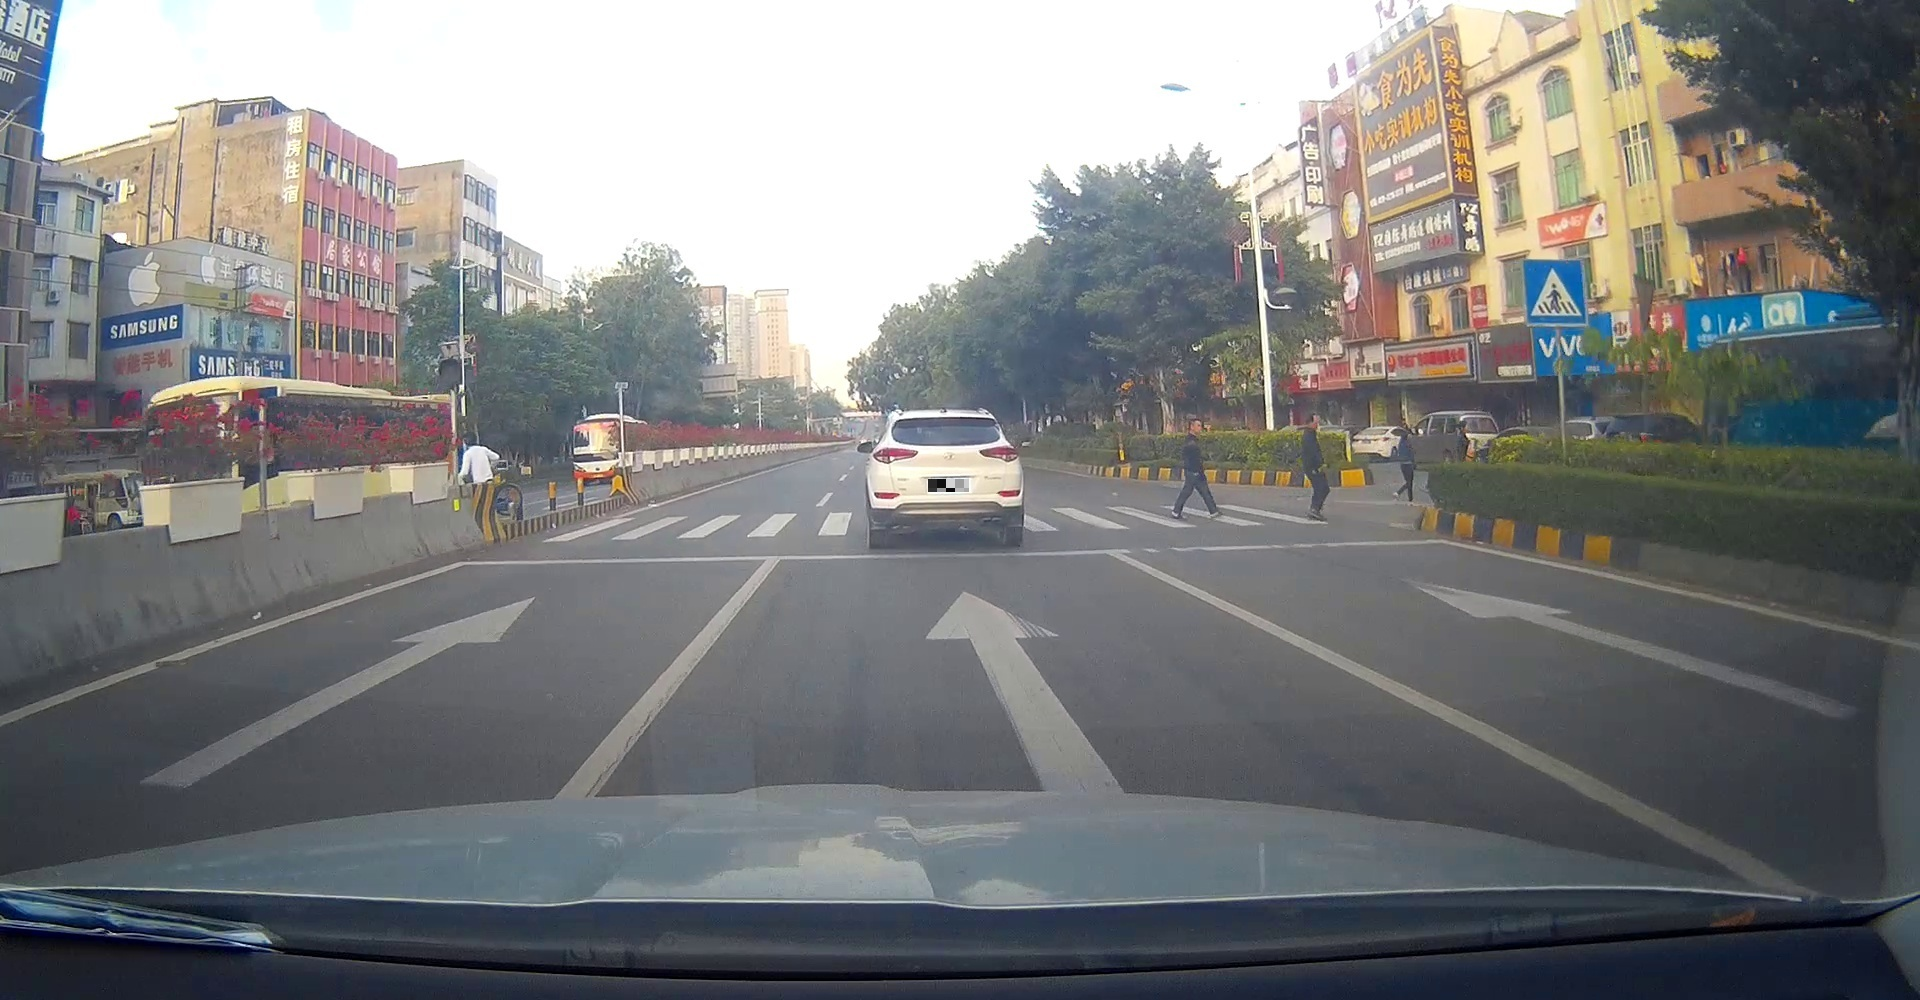L_light: (872, 447, 919, 464)
R_light: (978, 445, 1018, 462)
T_light: (936, 418, 960, 421)
day-no: (871, 410, 1023, 549)
plate_1: (928, 478, 969, 492)
